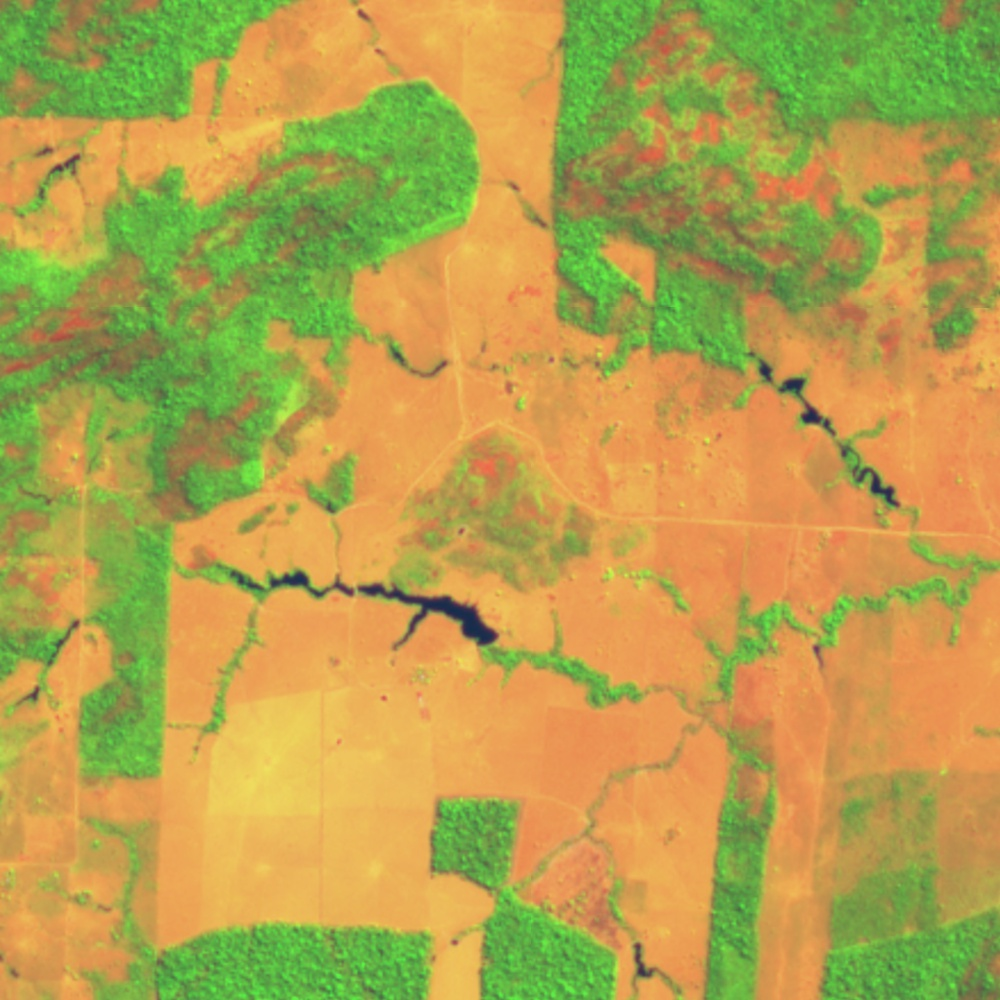illegal: (738, 347, 907, 517), (217, 563, 505, 660), (14, 617, 80, 717), (19, 141, 94, 212), (385, 340, 452, 382), (507, 180, 551, 229), (628, 939, 664, 986), (808, 641, 829, 671)
